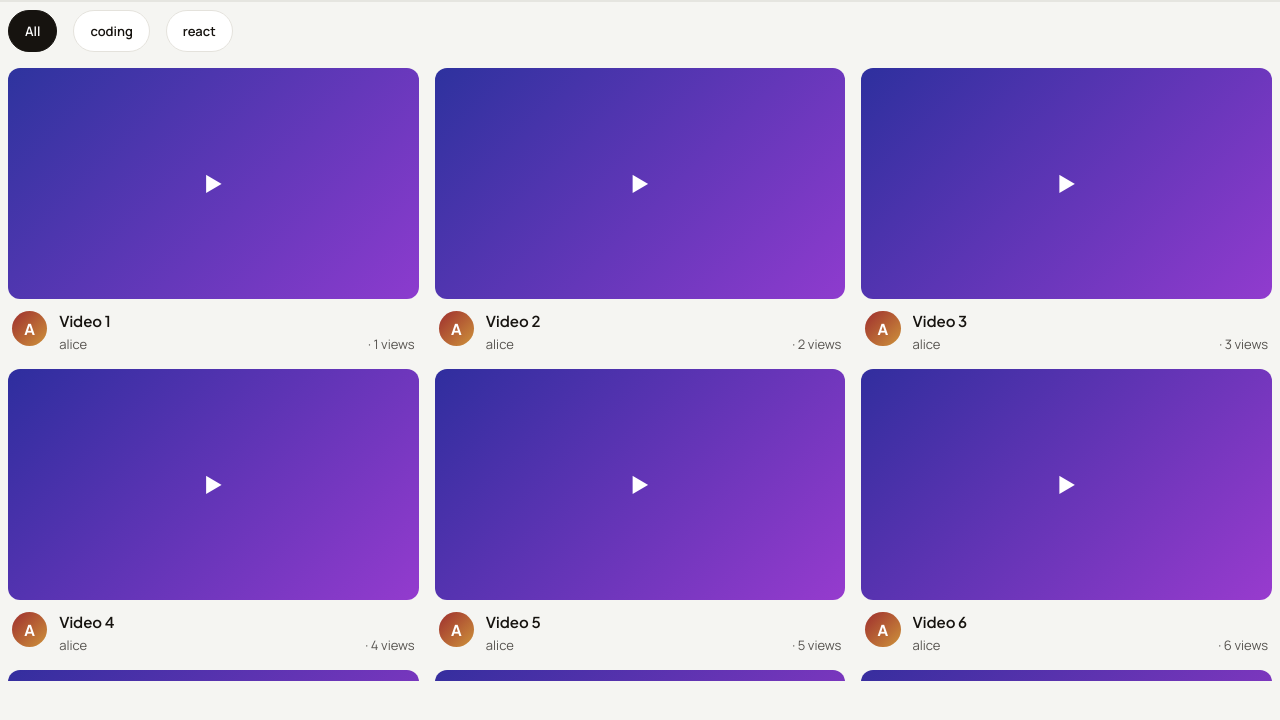
Test: Home pagination › tag change resets to page 1 with no new request
Click the button "react": (199, 31) [166,10,233,52]
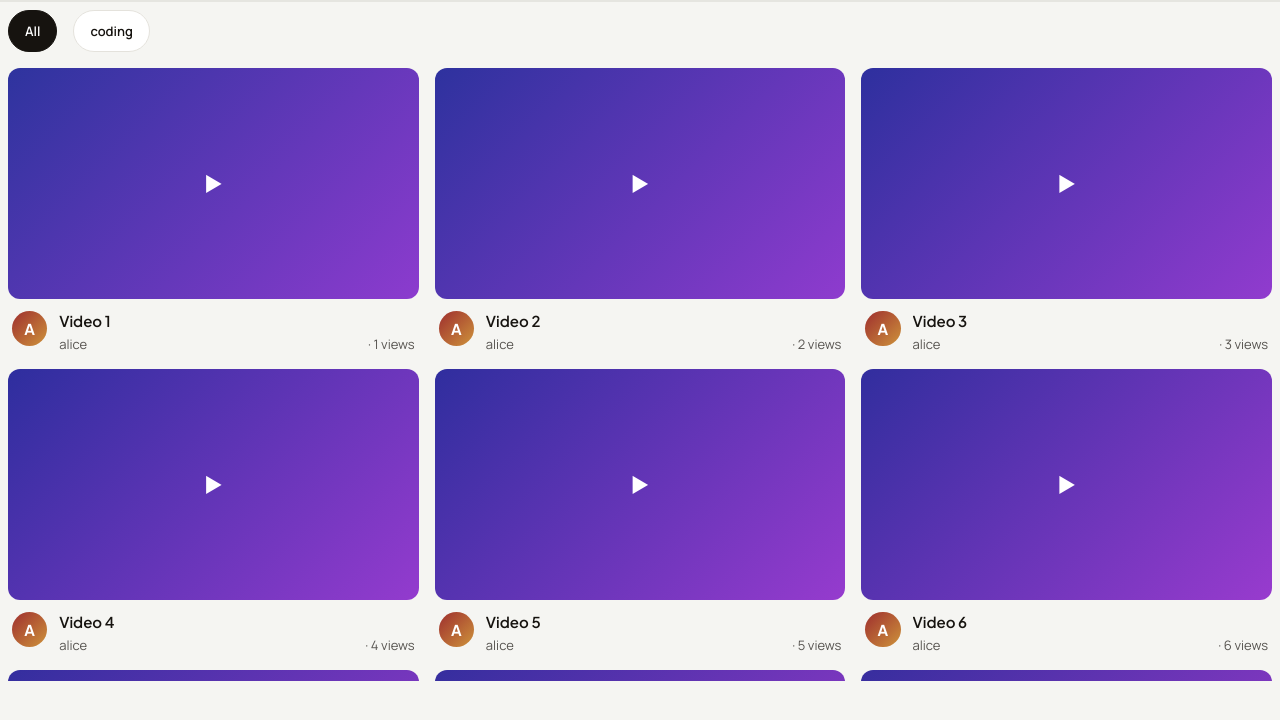
Expected: the text "Video 1" is shown, [59,311,111,330]
Expected: the button "react" is gone
